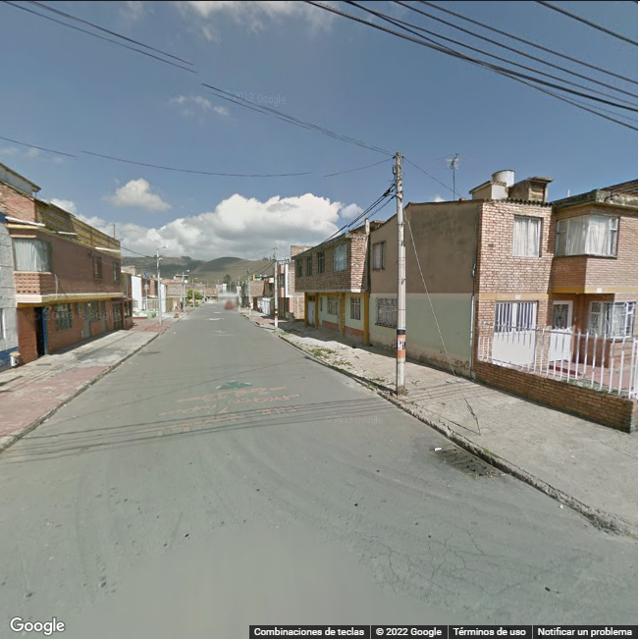D10: (486, 550, 584, 602)
D20: (377, 522, 482, 606)
